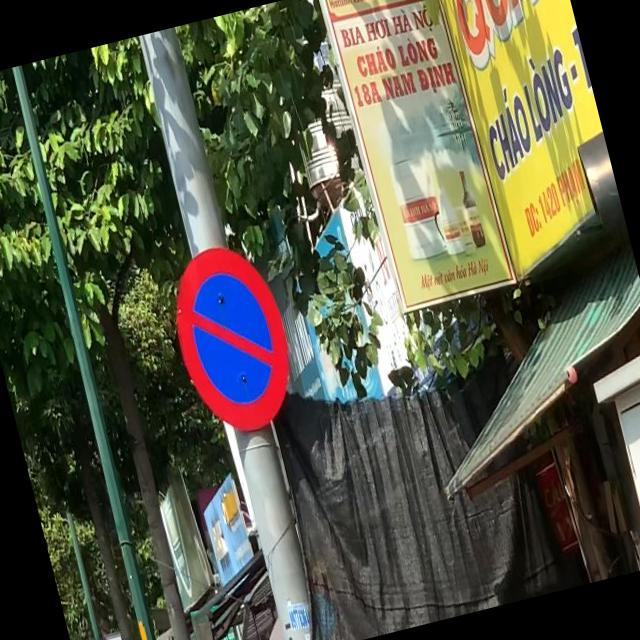P-131a: (156, 233, 306, 444)
